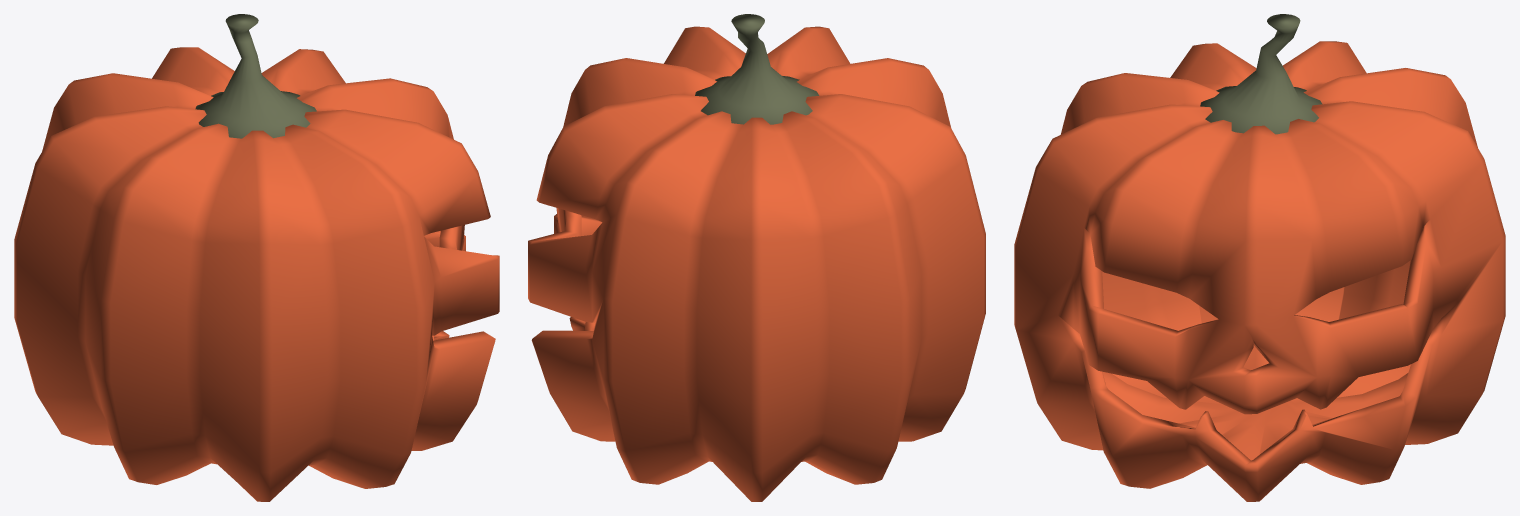
File: pumpkin.fbx
3 renders of one model, left to right at view 1: azimuth 30°, elevation 25°; view 2: azimuth 150°, elevation 25°; view 3: azimuth 270°, elevation 25°, orthographic. The views are drawn at different scales.
Visible parts, largest first — view 1: Cylinder, Cylinder.001; view 2: Cylinder, Cylinder.001; view 3: Cylinder, Cylinder.001.
Boxes of the visible parts, x1,y1,x2,y2 form: Cylinder: [14, 47, 499, 501]; Cylinder.001: [195, 14, 316, 138]; Cylinder: [528, 26, 985, 501]; Cylinder.001: [695, 14, 819, 124]; Cylinder: [1014, 41, 1505, 501]; Cylinder.001: [1200, 14, 1322, 134].
Size of the model in its own units: 2.8 by 2.77 by 2.97.
